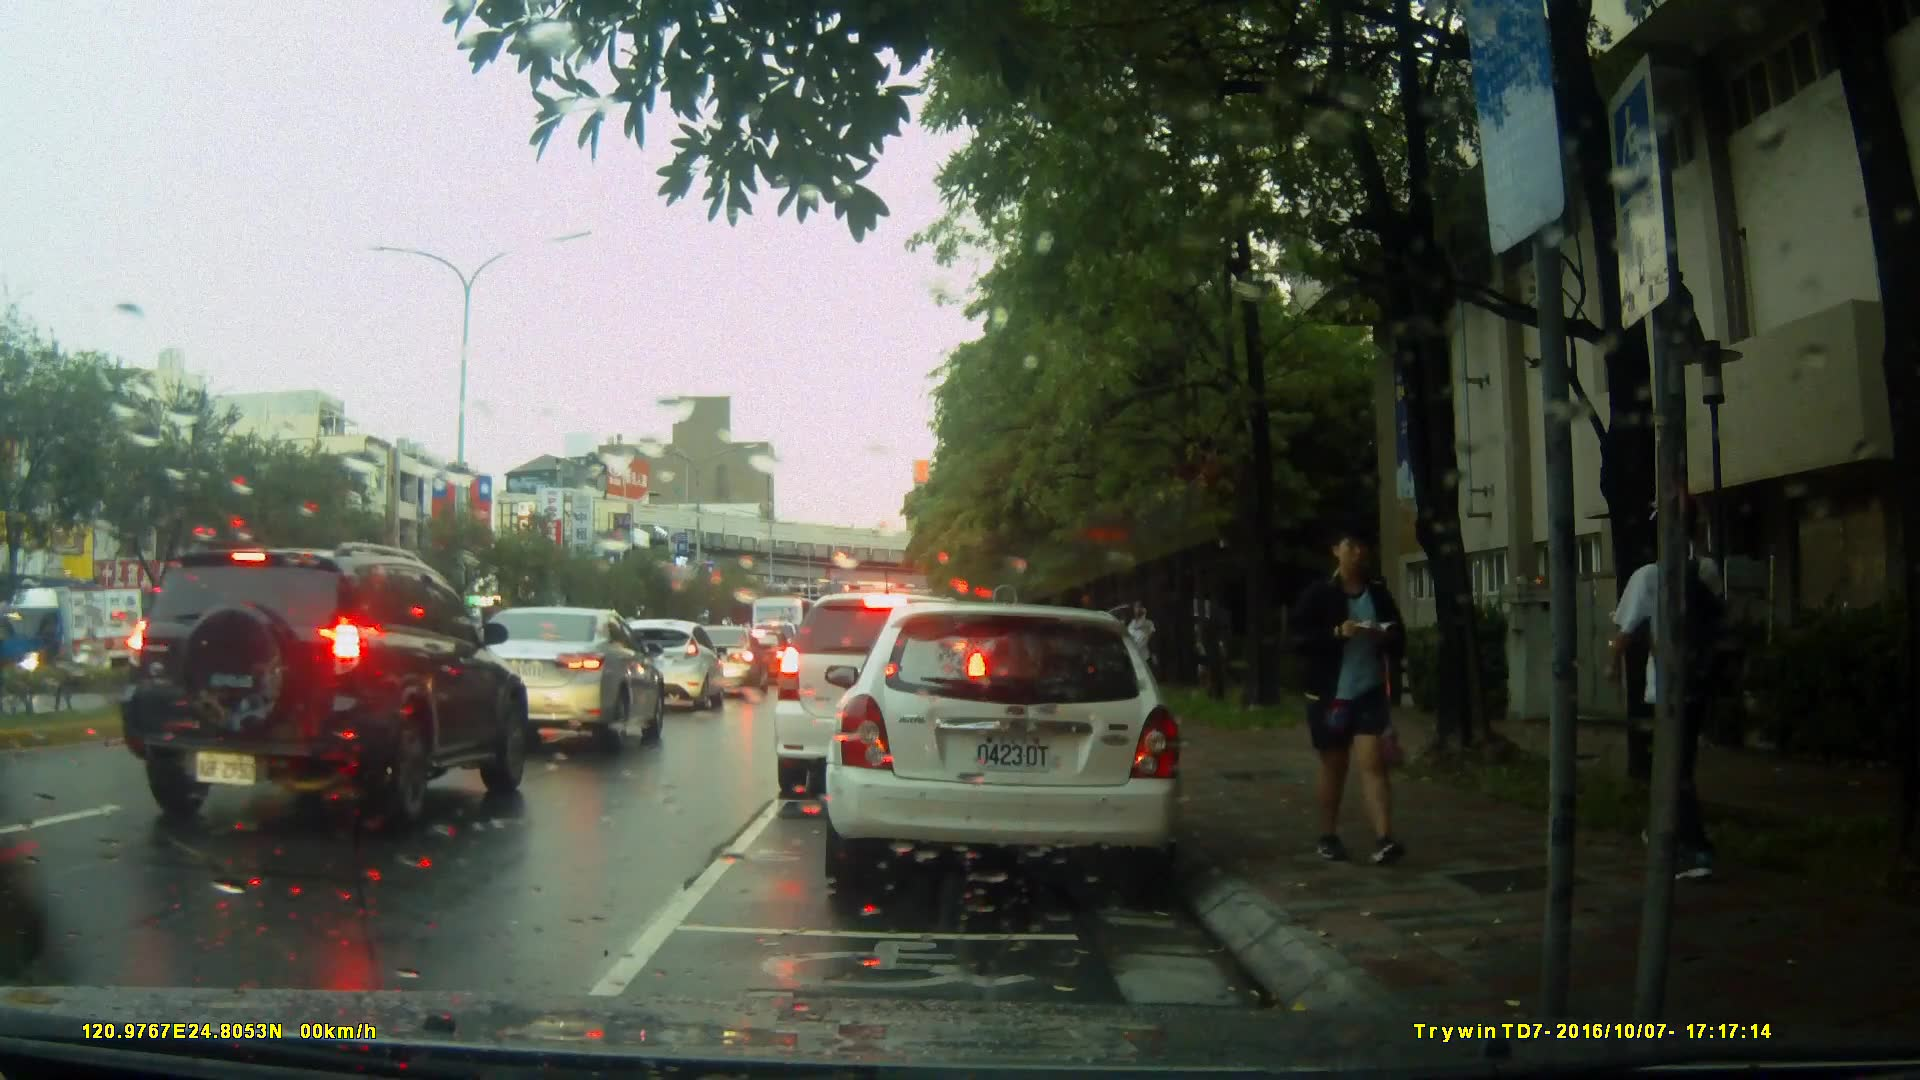pedestrian: (1602, 461, 1758, 894), (1278, 517, 1435, 877), (1119, 588, 1162, 730)
vehicle: (113, 540, 531, 836), (815, 593, 1199, 896), (770, 590, 995, 802), (458, 607, 674, 752), (1, 584, 150, 686), (603, 617, 729, 714), (686, 625, 763, 691)
